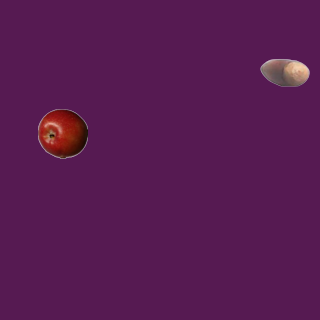Apple Braeburn: (37, 108, 87, 158)
Hazelnut: (259, 47, 309, 97)
